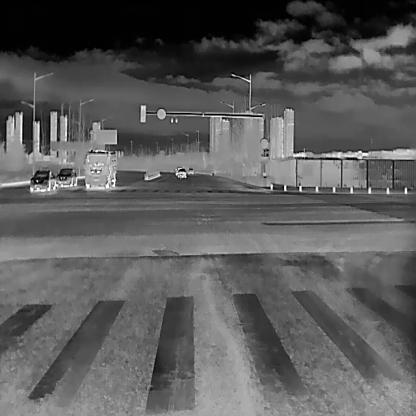car: (29, 168, 55, 191), (55, 168, 76, 186), (176, 167, 185, 177), (187, 165, 193, 174)
truck: (82, 148, 116, 188)
